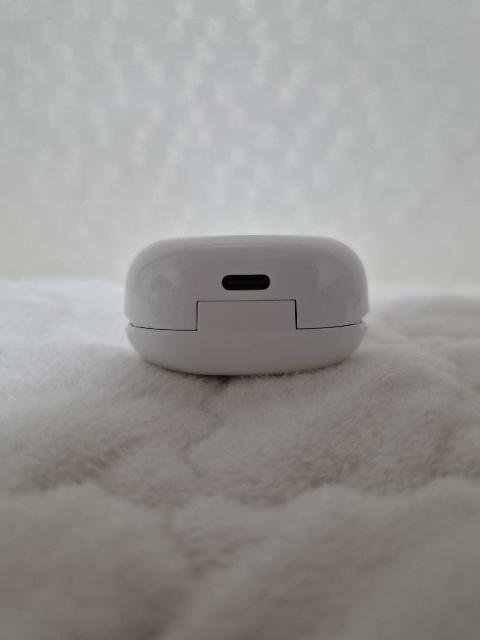earphone_case: (123, 234, 370, 376)
